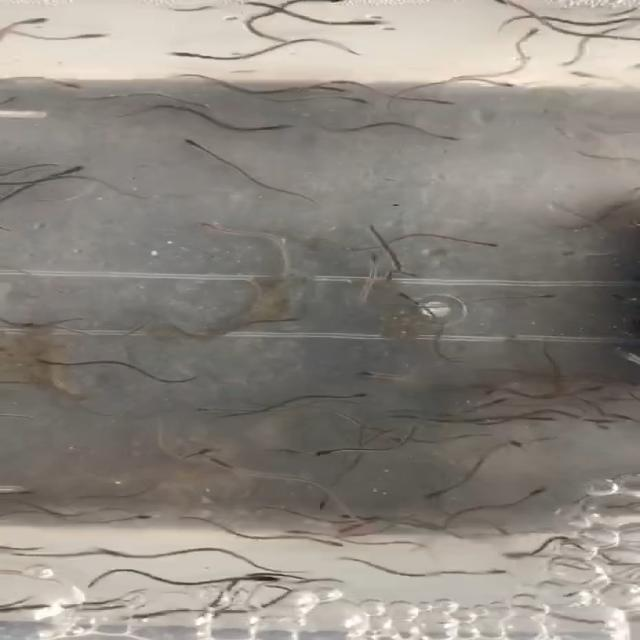active_glass_eel: (471, 230, 518, 254), (501, 434, 546, 456), (493, 546, 542, 566), (45, 158, 92, 178), (412, 480, 454, 501), (76, 28, 116, 50), (522, 483, 562, 504), (231, 572, 282, 588), (338, 94, 378, 114), (27, 350, 72, 367), (307, 445, 346, 464), (350, 360, 387, 380), (194, 401, 228, 421), (48, 74, 80, 95), (124, 506, 161, 524), (21, 12, 53, 32), (190, 218, 230, 234), (169, 46, 198, 68), (178, 132, 213, 150), (355, 215, 390, 232), (310, 82, 355, 95), (382, 286, 416, 303), (271, 314, 307, 330), (344, 18, 396, 29), (0, 480, 27, 498), (487, 564, 519, 579), (528, 288, 556, 305), (257, 119, 293, 132), (563, 66, 593, 81), (321, 537, 351, 552), (548, 52, 579, 66), (329, 520, 360, 534), (491, 74, 517, 90), (440, 130, 466, 146), (212, 458, 238, 474), (193, 444, 222, 458), (310, 499, 341, 512), (343, 387, 372, 400), (524, 23, 546, 40), (278, 526, 312, 537), (380, 256, 408, 269), (429, 96, 459, 108)
